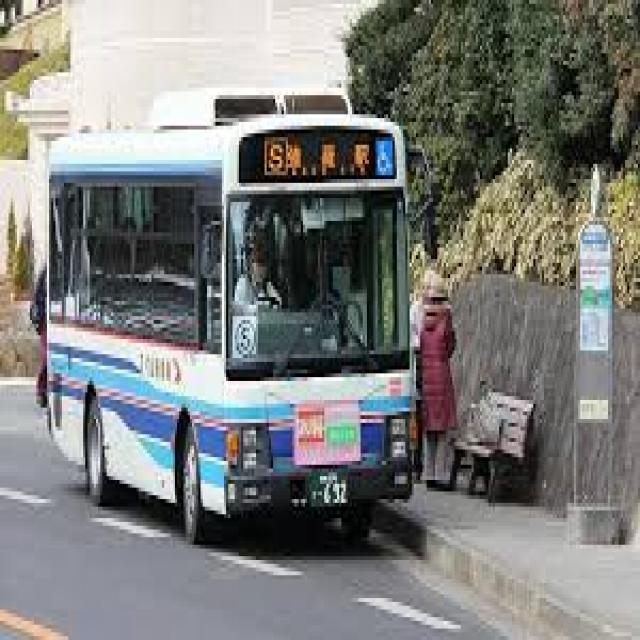Bus: (43, 138, 440, 530)
